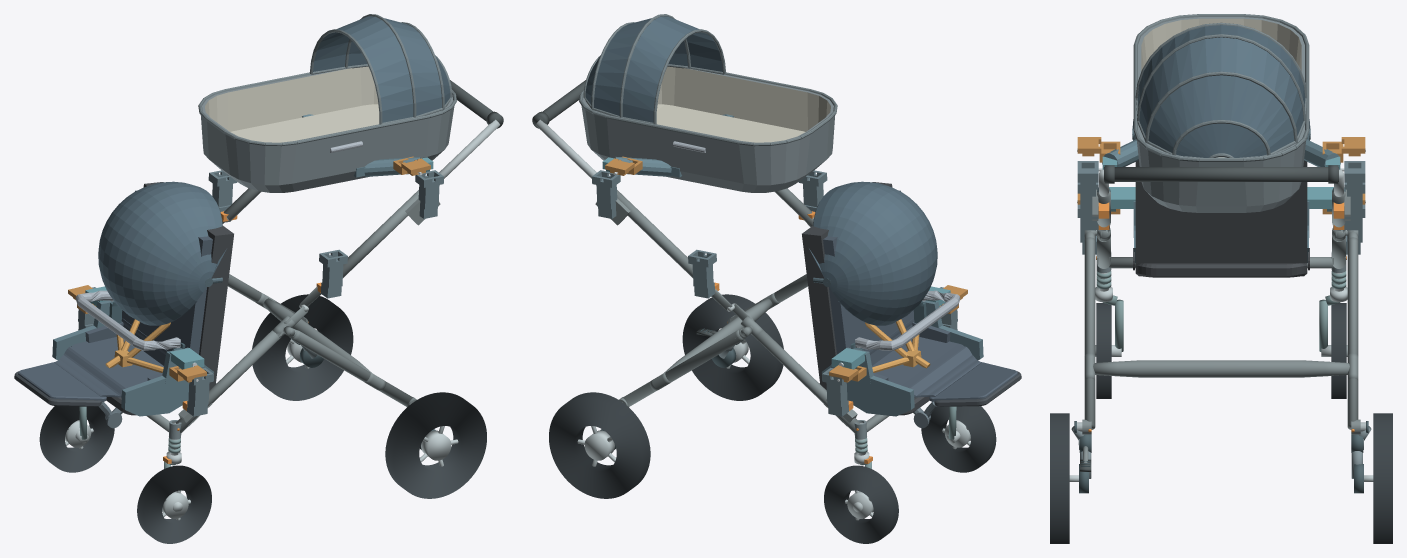
The model's file is D05_w650_state1_wheel_M.glb.
3 renders of one model, left to right at view 1: azimuth 30°, elevation 25°; view 2: azimuth 150°, elevation 25°; view 3: azimuth 270°, elevation 25°, orthographic. The views are drawn at different scales.
Visible parts, largest first — view 1: D05_Upper, D05_Lower, RL_tire.008, RR_tire.008, FL_tire.008, D05_Lower_Mount_L, FR_tire.008, V46_rear_leg_-1.009, main_lower_-1.009, main_upper_-1.009, Universal_Cabin_Receiver_M_-1, V46_rearbar.009 (+7 smaller); view 2: D05_Upper, D05_Lower, RR_tire.008, RL_tire.008, FR_tire.008, D05_Lower_Mount_L, FL_tire.008, V46_rear_leg_1.009, main_lower_1.009, main_upper_1.009, Universal_Cabin_Receiver_M_1, V46_rearbar.009 (+7 smaller); view 3: D05_Upper, D05_Lower, V46_rearbar.009, round_handle.008, RL_tire.008, RR_tire.008, V46_rear_leg_1.009, V46_rear_leg_-1.009, D05_Lower_Mount_L, D05_Upper_Mount_H, FL_tire.008, FR_tire.008 (+7 smaller).
Part boxes in pixels (x1,y1,x2,y2): D05_Upper: (198, 14, 456, 192); D05_Lower: (14, 181, 233, 428); RL_tire.008: (385, 392, 486, 498); RR_tire.008: (252, 294, 353, 400); FL_tire.008: (137, 465, 211, 543); D05_Lower_Mount_L: (52, 286, 213, 416); FR_tire.008: (39, 406, 114, 472); V46_rear_leg_-1.009: (291, 330, 412, 406); main_lower_-1.009: (176, 330, 283, 433); main_upper_-1.009: (343, 190, 418, 277); Universal_Cabin_Receiver_M_-1: (319, 249, 347, 298); V46_rearbar.009: (263, 298, 371, 372); D05_Upper: (579, 14, 837, 192); D05_Lower: (802, 181, 1021, 428); RR_tire.008: (549, 392, 650, 498); RL_tire.008: (682, 294, 783, 400); FR_tire.008: (824, 465, 898, 543); D05_Lower_Mount_L: (822, 286, 983, 416); FL_tire.008: (921, 406, 996, 472); V46_rear_leg_1.009: (623, 330, 744, 406); main_lower_1.009: (752, 330, 859, 433); main_upper_1.009: (617, 190, 692, 277); Universal_Cabin_Receiver_M_1: (688, 249, 716, 298); V46_rearbar.009: (664, 298, 772, 372); D05_Upper: (1133, 14, 1309, 212); D05_Lower: (1132, 119, 1310, 277); V46_rearbar.009: (1093, 360, 1349, 377); round_handle.008: (1104, 167, 1338, 181); RL_tire.008: (1050, 413, 1069, 543); RR_tire.008: (1373, 413, 1392, 543); V46_rear_leg_1.009: (1347, 237, 1358, 429); V46_rear_leg_-1.009: (1084, 237, 1095, 429); D05_Lower_Mount_L: (1109, 187, 1333, 262); D05_Upper_Mount_H: (1098, 139, 1344, 171); FL_tire.008: (1096, 303, 1111, 398); FR_tire.008: (1331, 303, 1346, 398).
Bounding box in the file's own units: 1.36 × 1.3 × 0.7871.
